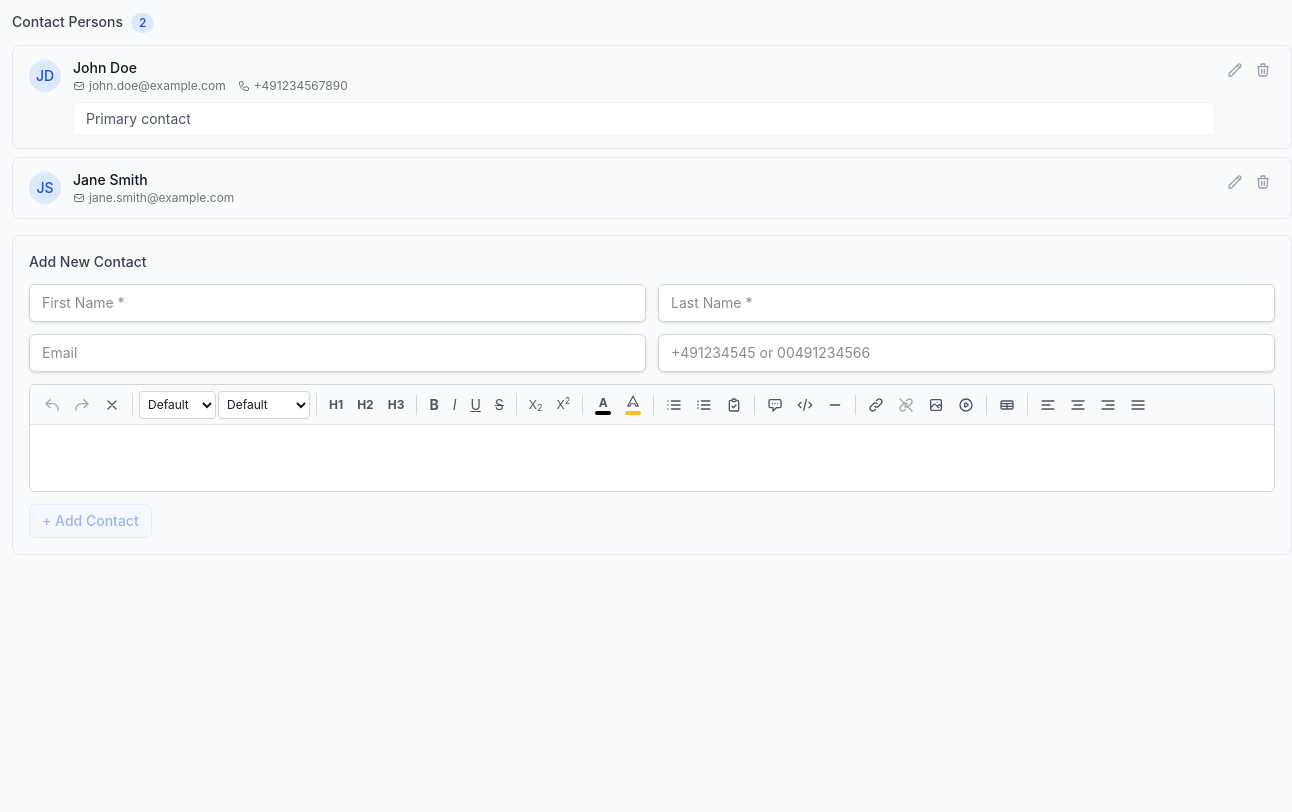
ContactPersonList › edit contact functionality › disables Save button when first name is empty in edit mode
Click the button titled "Edit contact" in the row of "+491234567890".
click(1235, 70)  # box [1223,58,1247,82]
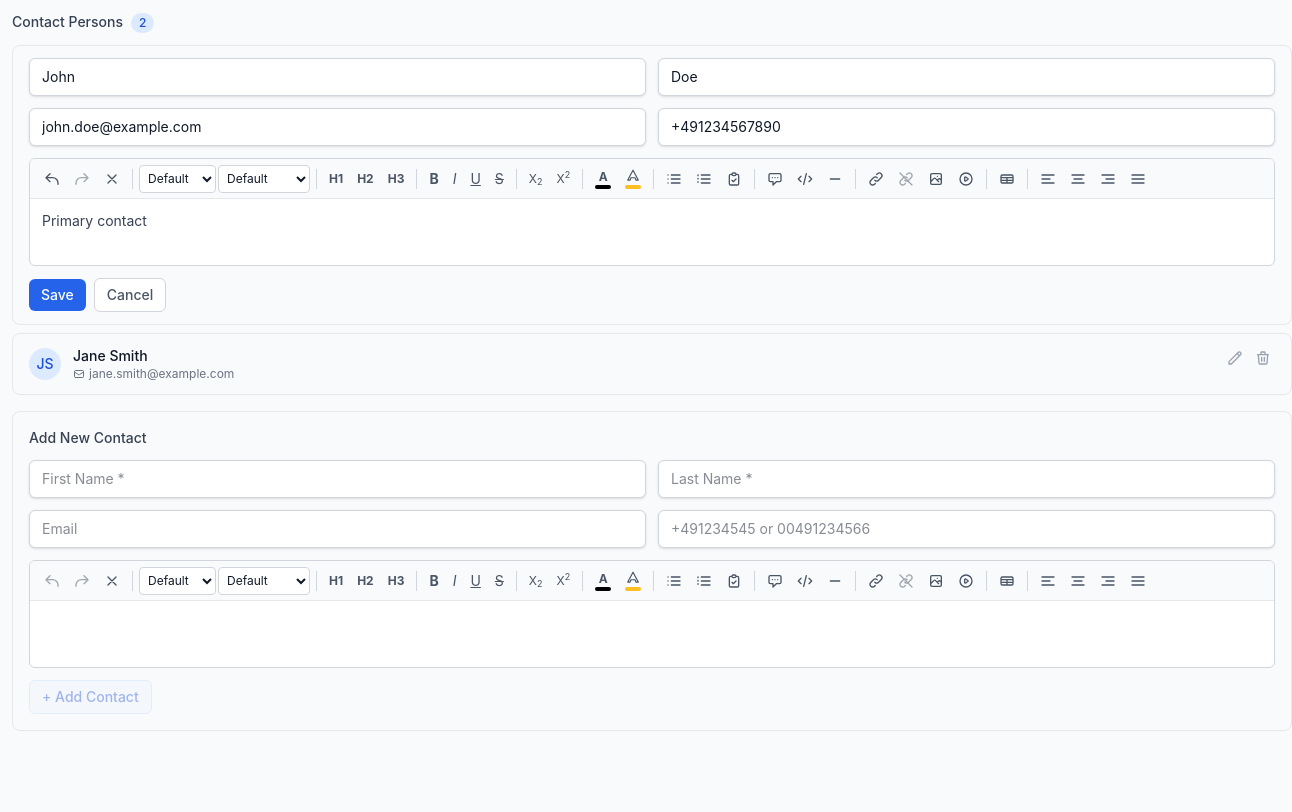
Clear the 1st field with placeholder "First Name *" at (338,77), box [29,58,646,96]
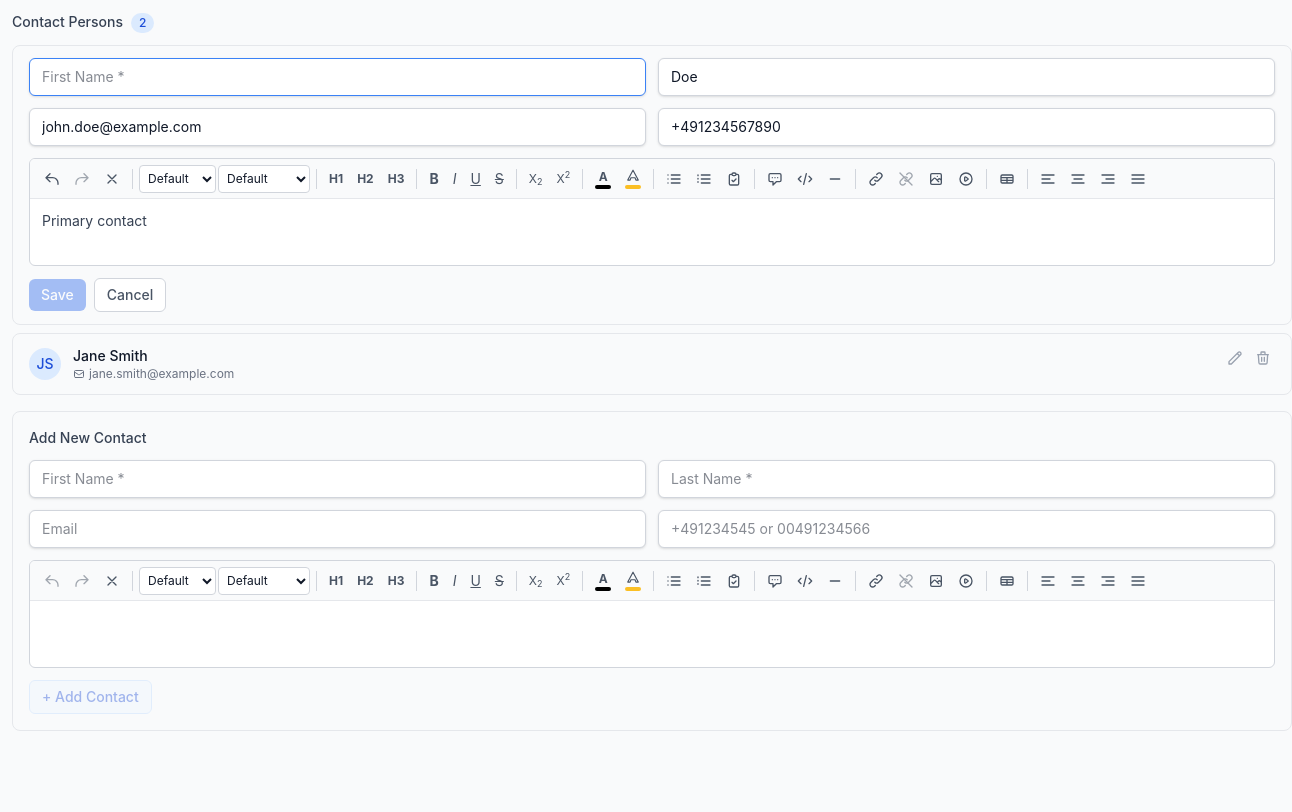
Expected: the button "Save" is disabled, [29,279,86,311]
